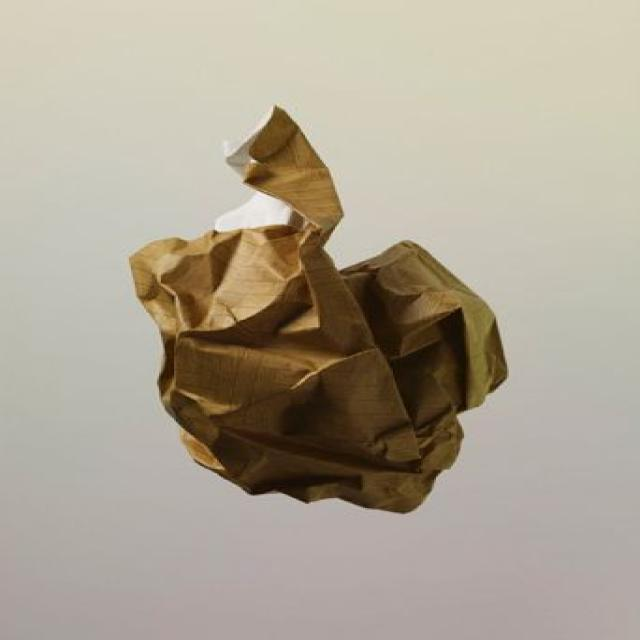Paper: (127, 107, 509, 516)
